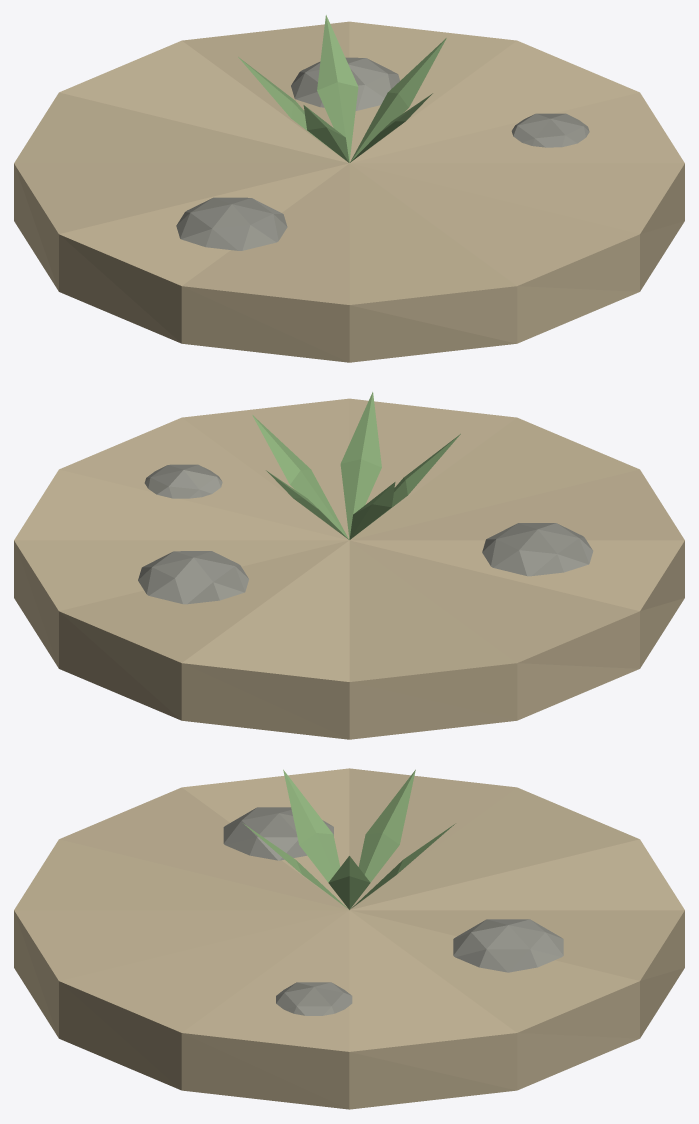
Rendered from small_sand_islet.glb.
3 renders of one model, top to bottom at view 1: azimuth 30°, elevation 25°; view 2: azimuth 150°, elevation 25°; view 3: azimuth 270°, elevation 25°, orthographic.
Parts seen in each view (by area): view 1: sand, stone_0, grass_1, stone_2, stone_1, grass_0, grass_3, grass_2, grass_4; view 2: sand, stone_0, stone_2, grass_4, stone_1, grass_0, grass_2, grass_3, grass_1; view 3: sand, stone_2, stone_0, grass_2, grass_3, stone_1, grass_0, grass_1, grass_4.
Part boxes in pixels (<box>): sand: <box>14,21,684,362</box>; stone_0: <box>176,197,287,250</box>; grass_1: <box>317,15,358,162</box>; stone_2: <box>291,57,399,110</box>; stone_1: <box>511,113,589,147</box>; grass_0: <box>350,38,446,162</box>; grass_3: <box>303,105,349,162</box>; grass_2: <box>238,57,335,152</box>; grass_4: <box>350,93,432,162</box>; sand: <box>14,398,684,739</box>; stone_0: <box>482,523,593,576</box>; stone_2: <box>138,551,248,604</box>; grass_4: <box>340,392,381,539</box>; stone_1: <box>144,464,222,498</box>; grass_0: <box>252,415,348,539</box>; grass_2: <box>349,482,395,539</box>; grass_3: <box>363,434,460,529</box>; grass_1: <box>266,470,348,539</box>; sand: <box>14,768,684,1109</box>; stone_2: <box>453,919,563,972</box>; stone_0: <box>223,807,333,860</box>; grass_2: <box>358,769,415,882</box>; grass_3: <box>283,769,340,882</box>; stone_1: <box>276,982,352,1015</box>; grass_0: <box>328,856,370,909</box>; grass_1: <box>351,823,455,908</box>; grass_4: <box>243,823,347,908</box>.
Bounding box in the file's own units: 1.9 × 0.55 × 1.9.
